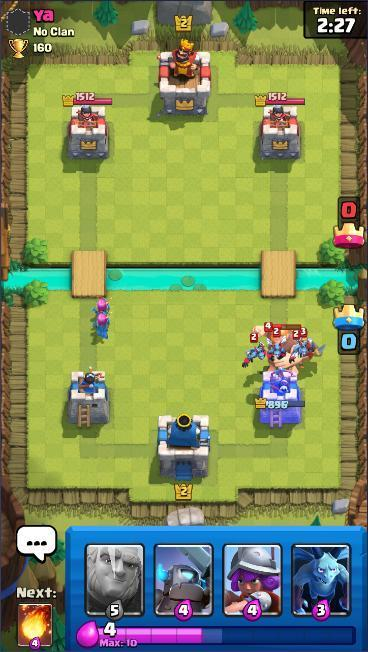ally_archer: (92, 294, 115, 327), (94, 312, 116, 340)
enemy_giant: (250, 322, 309, 377)
enemy_minion: (240, 332, 268, 370), (287, 328, 312, 366), (264, 327, 289, 364)
